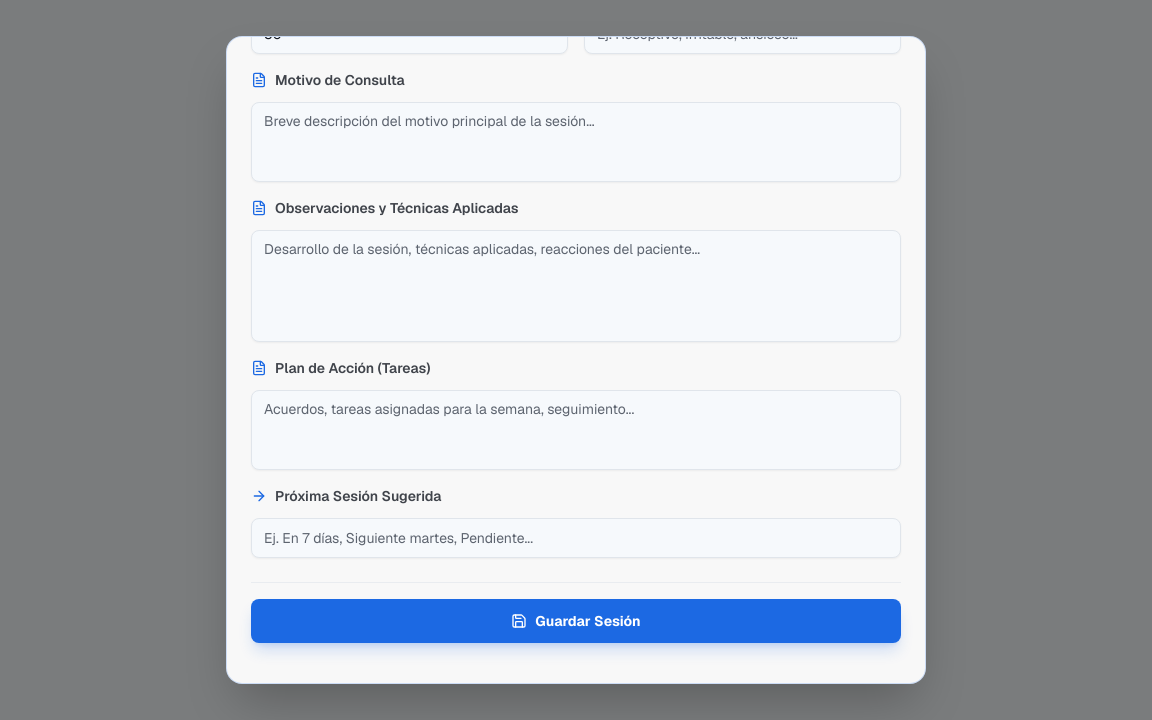
NuevaSesionDialog › debería mostrar errores de validación si los campos obligatorios están incompletos
This screenshot has width=1152, height=720.
(page scrolled)
Hacer clic en Guardar sin rellenar campos requeridos
Click the button "Guardar Sesión".
click(576, 621)  # box [251, 599, 901, 643]
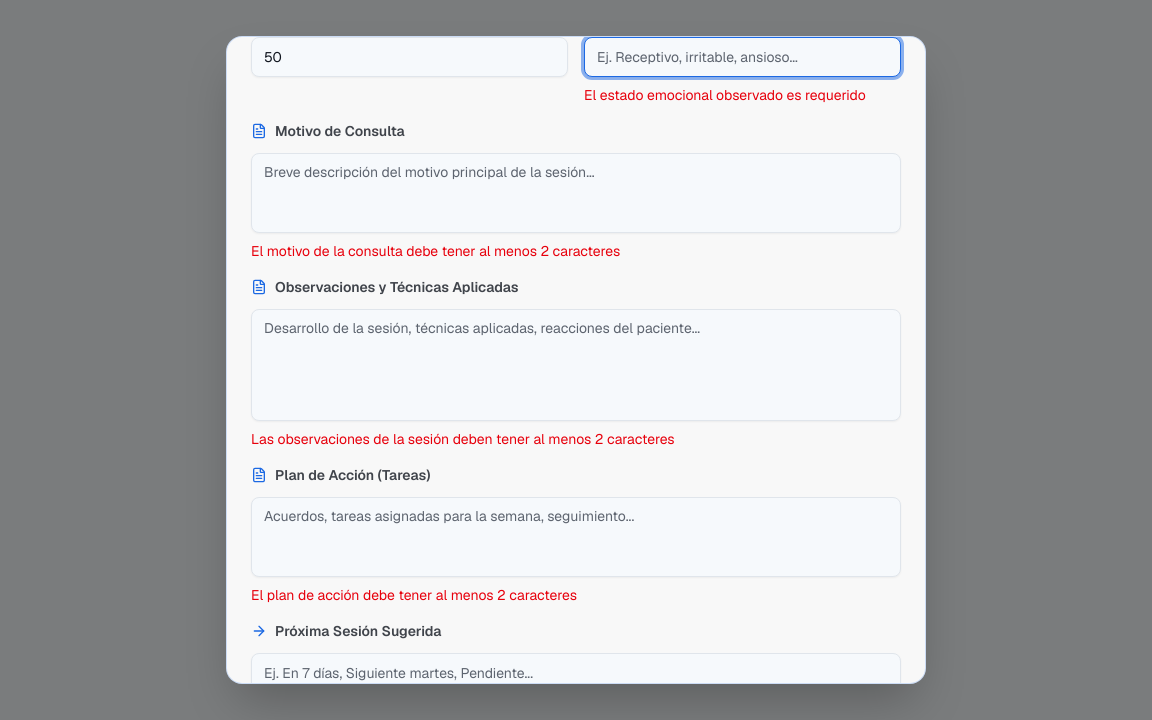
Check: the text "El motivo de la consulta debe tener al menos 2 caracteres" is shown, box [251, 242, 620, 260]
Check: the text "Las observaciones de la sesión deben tener al menos 2 caracteres" is shown, box [251, 430, 675, 448]
Check: the text "El estado emocional observado es requerido" is shown, box [584, 85, 901, 105]
